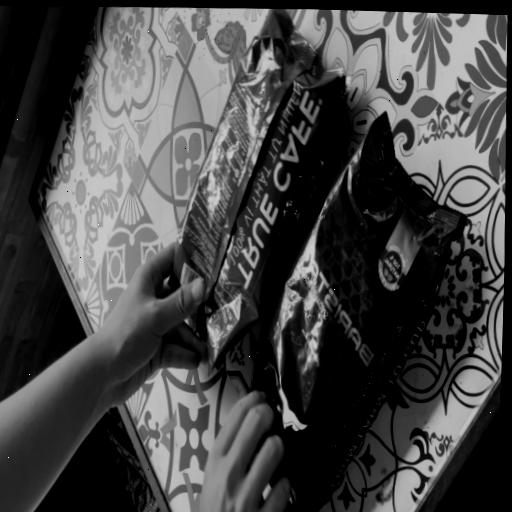cafe_hat: (253, 112, 465, 512)
cafe_xay: (169, 8, 349, 371)
